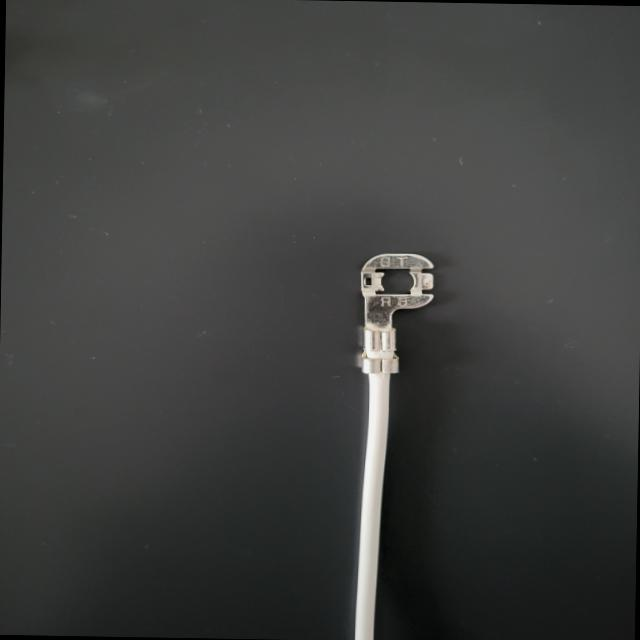defect: (278, 318, 433, 390)
